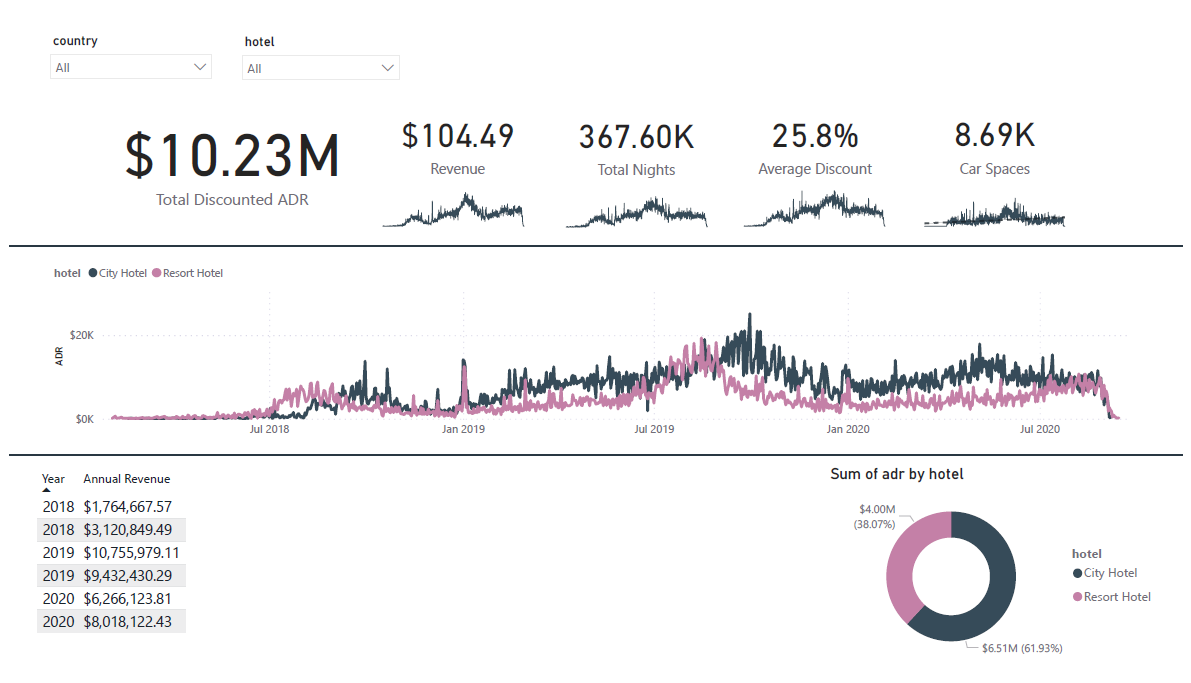

This screenshot's page, from the dashboard's own definition file:
{"tool":"powerbi","page":{"name":"Page 1","canvas":[1280,720],"ordinal":0},"visuals":[{"type":"shape","box":[0.4,246,1280.5,20.1],"z":0},{"type":"card","fields":{"Values":["Sum(hotelDiscountMeal.discountedADR)"]},"box":[93.9,90.5,297,139.6],"z":1000},{"type":"card","fields":{"Values":["Avg(hotelDiscountMeal.adr)"]},"box":[391.3,84.4,195.1,117.7],"z":2000},{"type":"card","fields":{"Values":["hotelDiscountMeal.Total Nights"]},"box":[586.4,85.5,195.1,117.7],"z":3000},{"type":"card","fields":{"Values":["Avg(hotelDiscountMeal.Discount)"]},"box":[781.4,84.5,195.1,117.7],"z":4000},{"type":"lineChart","fields":{"Y":["Sum(hotelDiscountMeal.adr)"],"Category":["hotelDiscountMeal.reservation_status_date"],"Series":["hotelDiscountMeal.hotel"]},"box":[42.6,266.3,1194.1,208.3],"z":5000},{"type":"slicer","fields":{"Values":["hotelDiscountMeal.country"]},"box":[34,19.2,196.5,67.5],"z":6000},{"type":"slicer","fields":{"Values":["hotelDiscountMeal.hotel"]},"box":[243.5,20.3,191.7,67.5],"z":7000},{"type":"shape","box":[0,474.6,1280.5,20.1],"z":8000},{"type":"lineChart","fields":{"Y":["Sum(hotelDiscountMeal.adr)"],"Category":["hotelDiscountMeal.reservation_status_date"]},"box":[392.2,179.2,183.4,61.5],"z":9000},{"type":"lineChart","fields":{"Y":["hotelDiscountMeal.Total Nights"],"Category":["hotelDiscountMeal.reservation_status_date"]},"box":[592.2,179.2,183.4,62.7],"z":10000},{"type":"lineChart","fields":{"Y":["Sum(hotelDiscountMeal.Discount)"],"Category":["hotelDiscountMeal.reservation_status_date"]},"box":[786.2,179.2,183.4,61.5],"z":11000},{"type":"card","fields":{"Values":["Sum(hotelDiscountMeal.required_car_parking_spaces)"]},"box":[976.8,83.4,195.3,118.3],"z":12000},{"type":"lineChart","fields":{"Y":["Sum(hotelDiscountMeal.required_car_parking_spaces)"],"Category":["hotelDiscountMeal.reservation_status_date"]},"box":[982.7,179.2,183.4,61.5],"z":13000},{"type":"donutChart","fields":{"Category":["hotelDiscountMeal.hotel"],"Y":["Sum(hotelDiscountMeal.adr)"]},"box":[889.9,494.7,369.2,224.9],"z":14000},{"type":"tableEx","fields":{"Values":["yearlyRevenuePerHotel.arrival_date_year","yearlyRevenuePerHotel.yearlyRevenue"]},"box":[23.7,494.7,234.3,204.7],"z":15000}]}

Visuals, with their boxes in screenshot pixels (x1, y1, x2, y2), scaled from the page's 1280x720 canvas onto the 1191x683 screenshot:
shape: 0, 233, 1190, 252
card - Sum(hotelDiscountMeal.discountedADR): 87, 86, 364, 218
card - Avg(hotelDiscountMeal.adr): 364, 80, 546, 192
card - hotelDiscountMeal.Total Nights: 546, 81, 727, 193
card - Avg(hotelDiscountMeal.Discount): 727, 80, 909, 192
lineChart - Sum(hotelDiscountMeal.adr) x hotelDiscountMeal.reservation_status_date: 40, 253, 1151, 450
slicer - hotelDiscountMeal.country: 32, 18, 214, 82
slicer - hotelDiscountMeal.hotel: 227, 19, 405, 83
shape: 0, 450, 1190, 469
lineChart - Sum(hotelDiscountMeal.adr) x hotelDiscountMeal.reservation_status_date: 365, 170, 536, 228
lineChart - hotelDiscountMeal.Total Nights x hotelDiscountMeal.reservation_status_date: 551, 170, 722, 229
lineChart - Sum(hotelDiscountMeal.Discount) x hotelDiscountMeal.reservation_status_date: 732, 170, 902, 228
card - Sum(hotelDiscountMeal.required_car_parking_spaces): 909, 79, 1091, 191
lineChart - Sum(hotelDiscountMeal.required_car_parking_spaces) x hotelDiscountMeal.reservation_status_date: 914, 170, 1085, 228
donutChart - hotelDiscountMeal.hotel x Sum(hotelDiscountMeal.adr): 828, 469, 1172, 682
tableEx - yearlyRevenuePerHotel.arrival_date_year x yearlyRevenuePerHotel.yearlyRevenue: 22, 469, 240, 663
